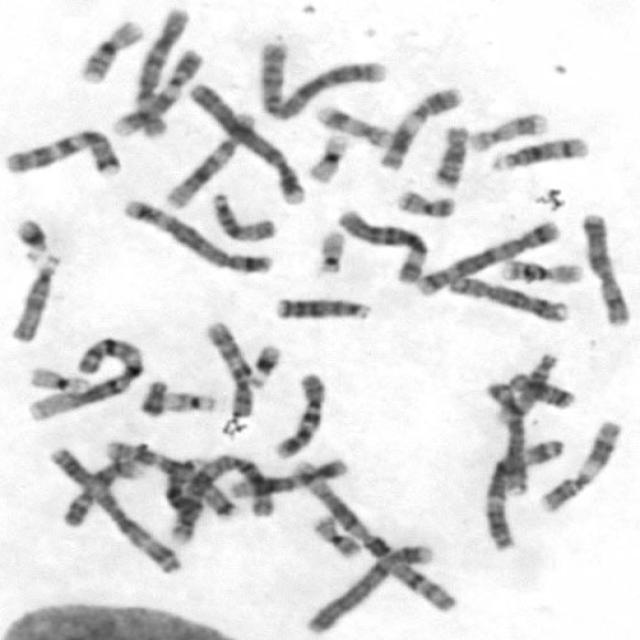A1: (284, 454, 462, 617), (22, 331, 146, 423)
A2: (251, 34, 390, 122), (162, 450, 273, 544)
A3: (46, 442, 183, 576), (479, 432, 568, 551)
B4: (184, 76, 311, 206), (301, 538, 437, 635)
B5: (118, 195, 276, 276), (411, 217, 562, 297)
C10: (199, 316, 255, 420), (269, 366, 330, 460)
C11: (534, 414, 624, 515), (374, 82, 466, 172)
C12: (158, 106, 258, 213), (223, 454, 349, 502)
C6: (121, 3, 193, 141), (333, 202, 431, 286)
C7: (100, 438, 240, 520), (0, 125, 125, 178)
C8: (442, 270, 572, 325), (478, 378, 532, 498)
C9: (105, 41, 206, 141), (57, 455, 146, 528)
D13: (154, 455, 241, 521), (269, 292, 374, 324)
D14: (488, 348, 564, 425), (487, 129, 593, 174)
D15: (5, 250, 64, 344), (207, 187, 280, 244)
E16: (74, 15, 147, 84), (492, 252, 585, 286)
E17: (464, 105, 552, 154), (312, 100, 394, 147)
E18: (504, 368, 578, 410), (428, 120, 472, 190)
F19: (302, 127, 352, 185), (25, 362, 92, 394)
F20: (306, 508, 365, 558), (390, 184, 458, 219)
G21: (10, 212, 52, 262), (243, 338, 284, 388)
G22: (308, 222, 349, 276), (160, 385, 220, 414)
X: (576, 208, 634, 328)
Y: (135, 374, 170, 419)
